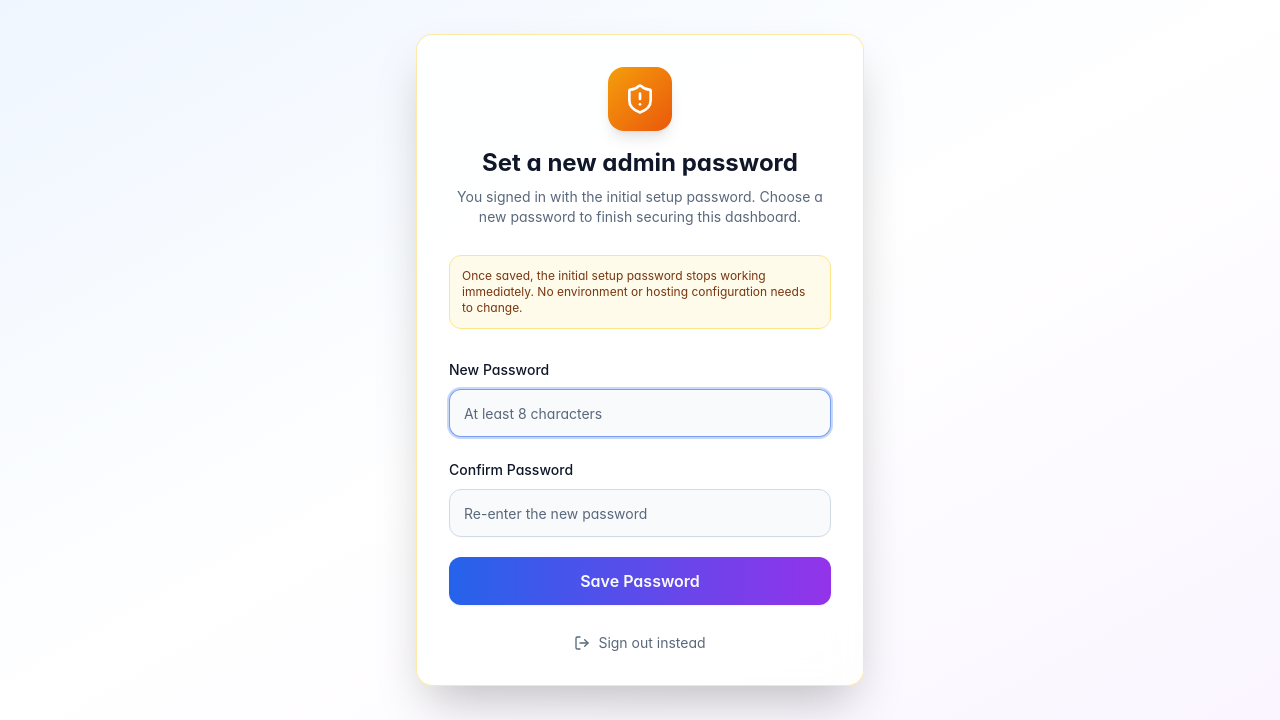
Test: forced first-run password setup › stays on the setup screen when the save fails
The image size is (1280, 720).
Type "brandnewpassword1" into the password field labelled "New Password" at point(640, 413), box [449,389,831,437]
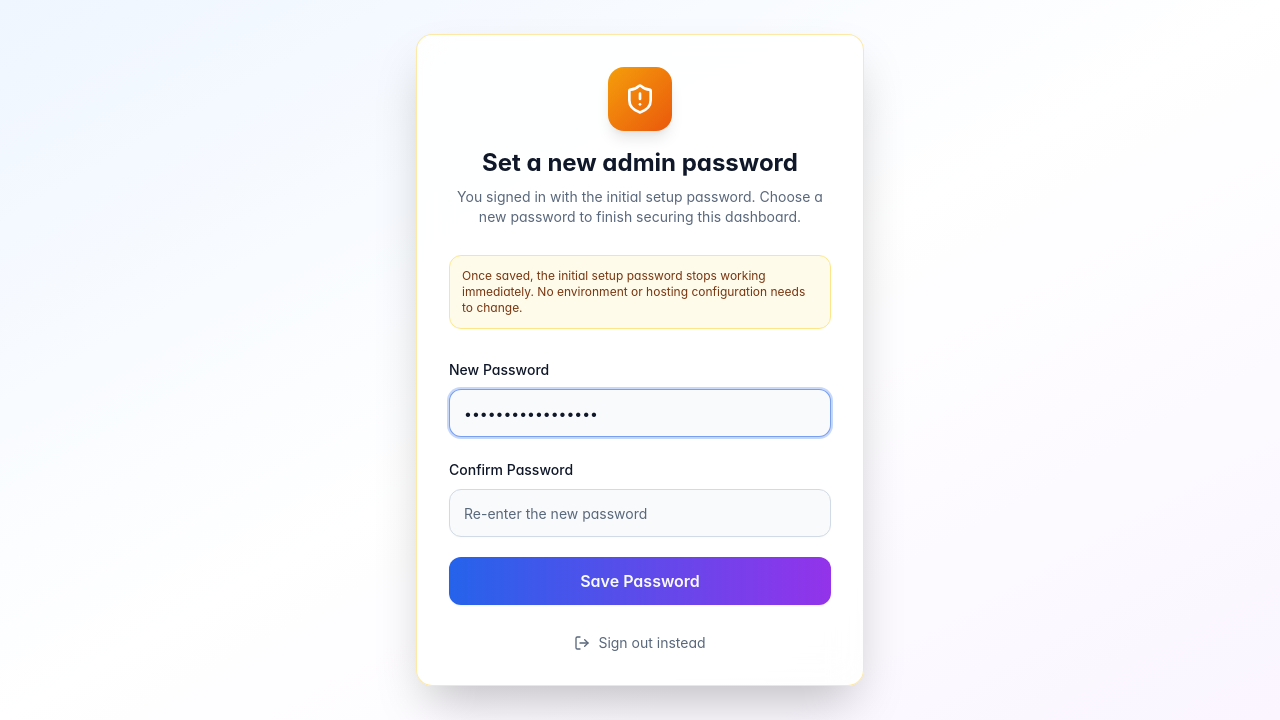
Type "brandnewpassword1" into the password field labelled "Confirm Password" at point(640, 513), box [449,489,831,537]
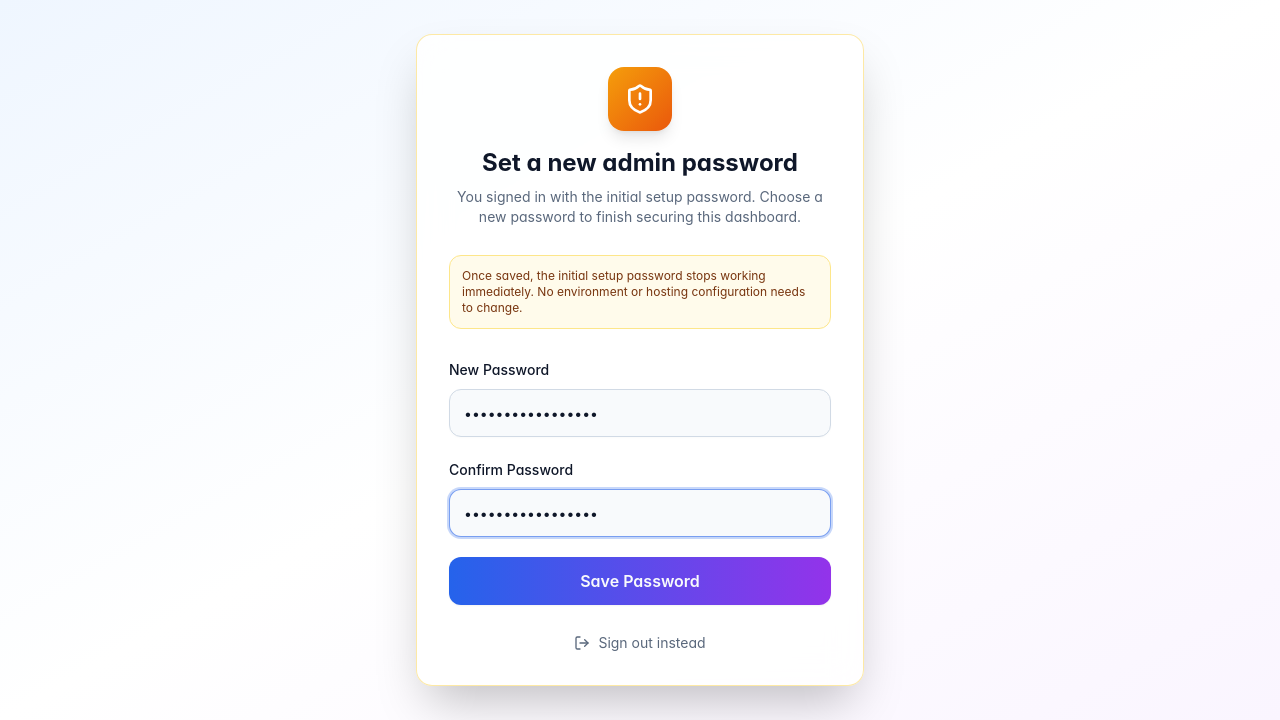
Click the button "Save Password" at point(640, 581), box [449,557,831,605]
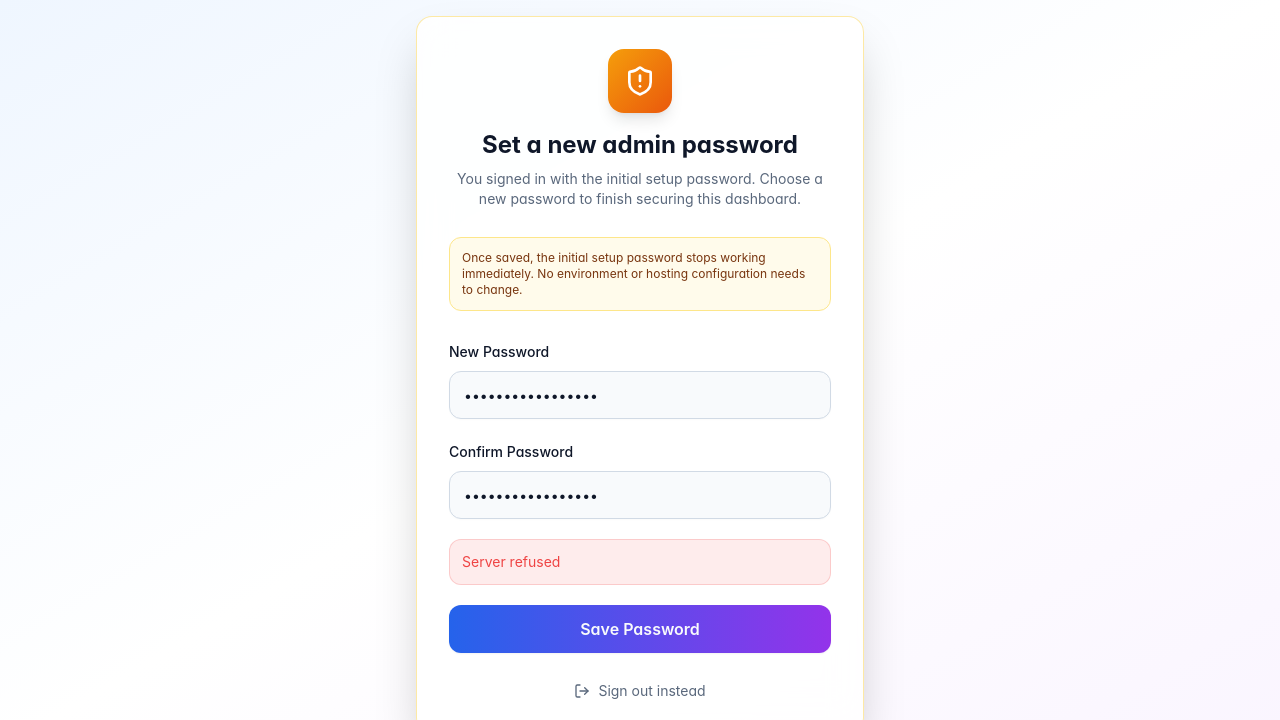
Check: the message reads "Server refused", box [462,553,560,570]
